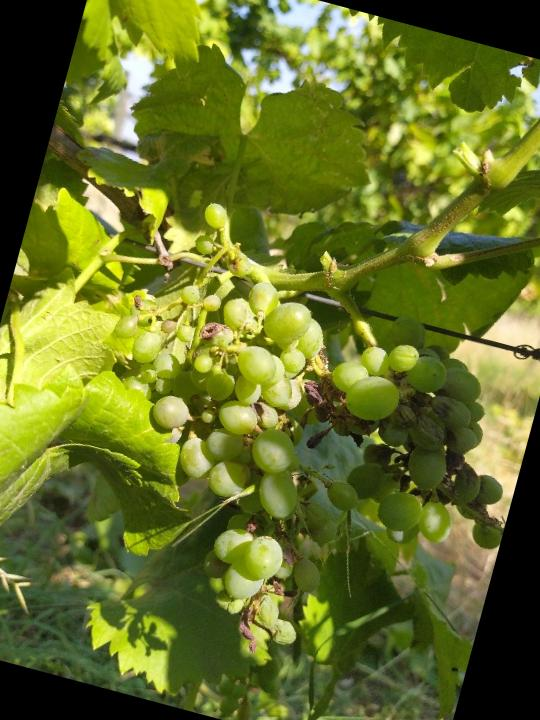grape: (40, 183, 423, 670), (292, 300, 540, 571)
